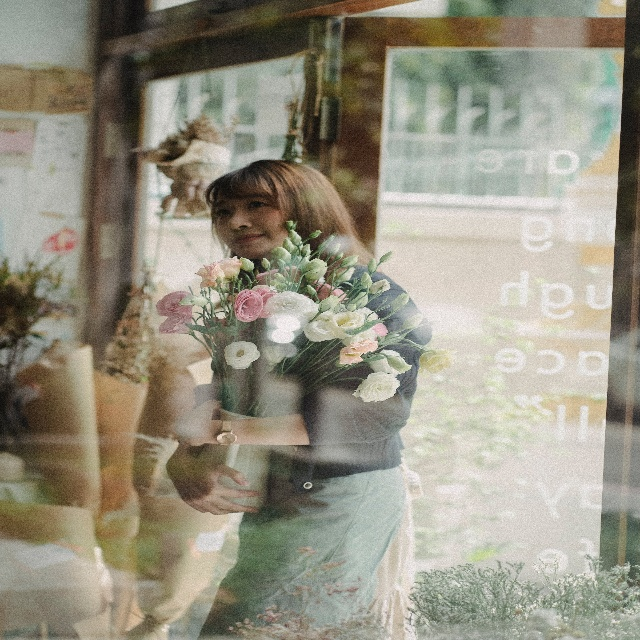Sin_guantes: (166, 451, 260, 520)
